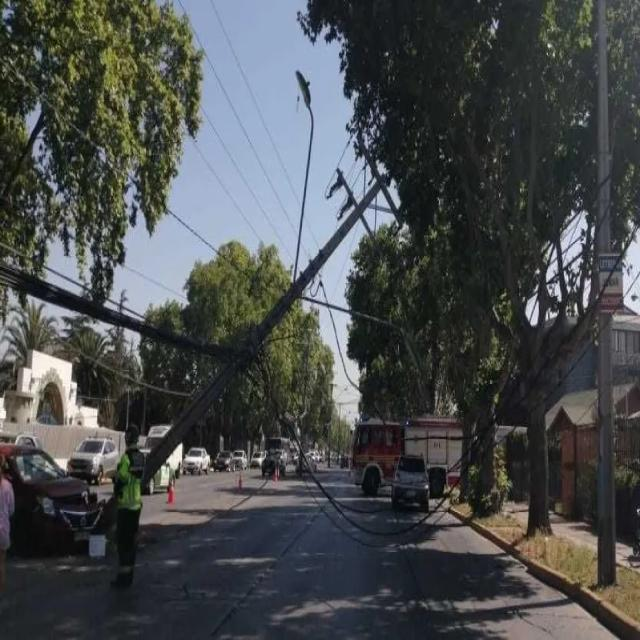Inclined Pole: (138, 70, 411, 485)
